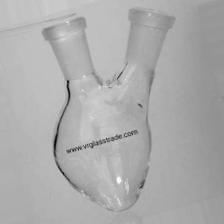Pear shaped flask: (22, 8, 178, 214)
